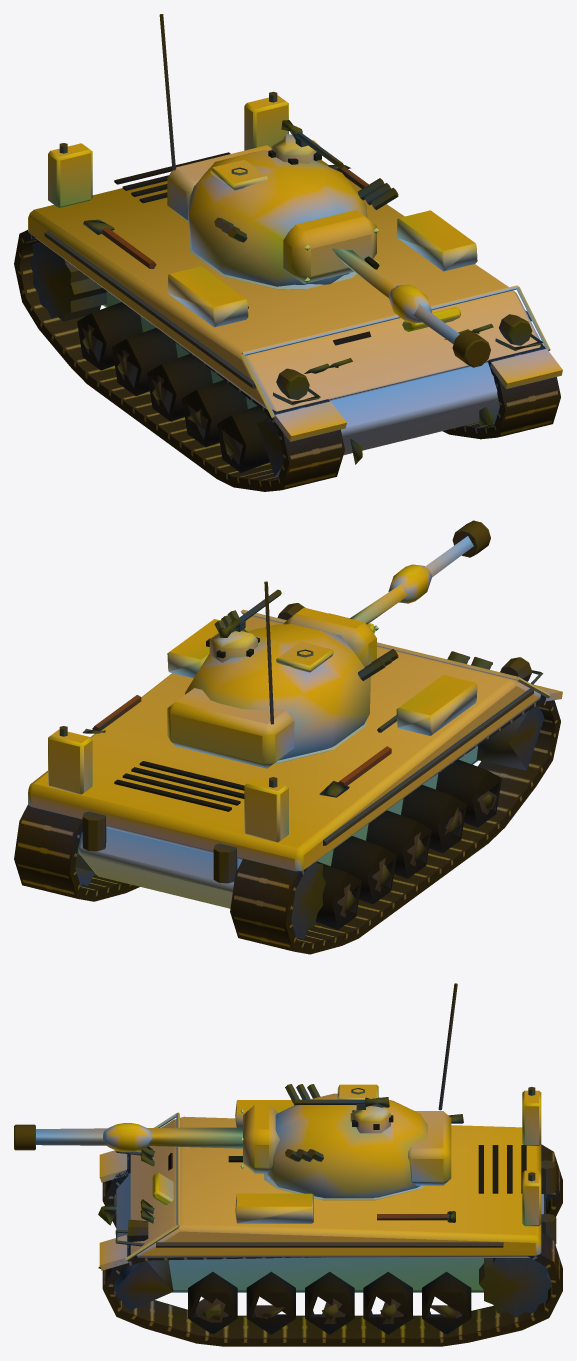
Rendered from tank_lo.glb.
3 renders of one model, top to bottom at view 1: azimuth 30°, elevation 25°; view 2: azimuth 150°, elevation 25°; view 3: azimuth 270°, elevation 25°, orthographic. The views are drawn at different scales.
Parts seen in each view (by area): view 1: hull, turret, tracks, barrel; view 2: hull, turret, tracks, barrel; view 3: hull, turret, tracks, barrel.
Boxes of the visible parts, x1=… form: hull: x1=28, y1=91, x2=562, y2=476; turret: x1=159, y1=14, x2=398, y2=289; tracks: x1=14, y1=230, x2=560, y2=491; barrel: x1=332, y1=248, x2=490, y2=367; hull: x1=28, y1=603, x2=562, y2=938; turret: x1=167, y1=581, x2=398, y2=768; tracks: x1=14, y1=694, x2=560, y2=954; barrel: x1=350, y1=520, x2=490, y2=624; hull: x1=98, y1=1087, x2=556, y2=1334; turret: x1=228, y1=983, x2=457, y2=1200; tracks: x1=102, y1=1144, x2=562, y2=1346; barrel: x1=14, y1=1123, x2=242, y2=1151.
Bounding box in the file's own units: 0.1723 × 0.2001 × 0.3477.
Materials: 5 (1 with a texture image).
